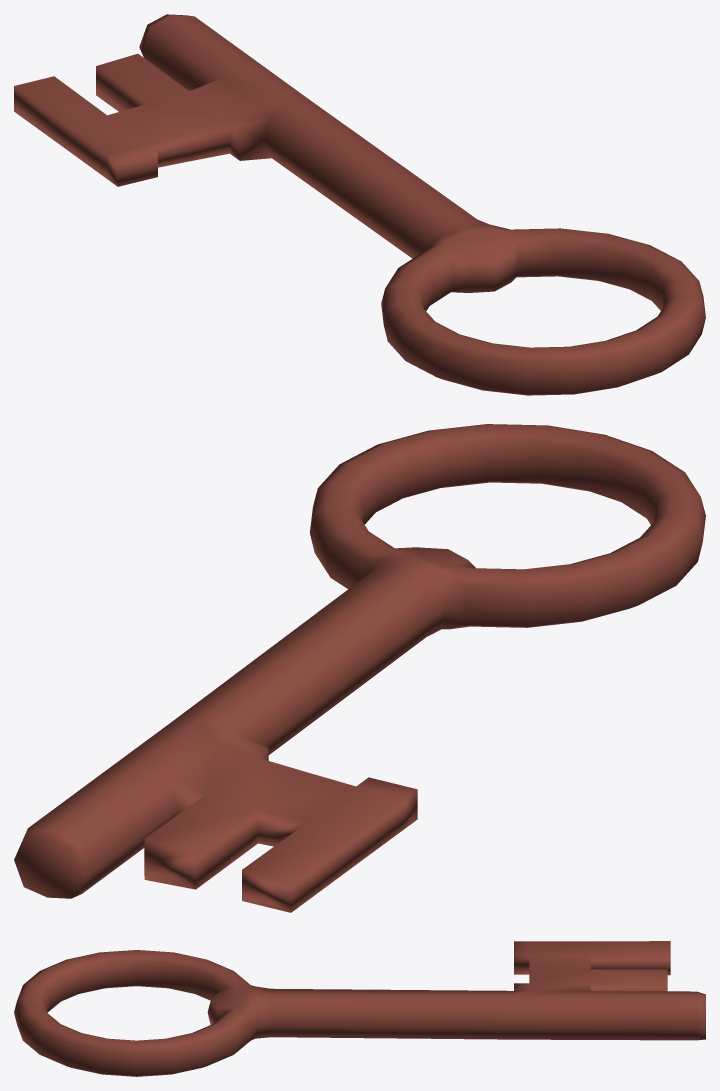
The model's file is Key_02.fbx.
3 views of the same model, one above another, from view 1: azimuth 30°, elevation 25°; view 2: azimuth 150°, elevation 25°; view 3: azimuth 270°, elevation 25° (orthographic). The views are drawn at different scales.
Parts seen in each view (by area): view 1: Key_02; view 2: Key_02; view 3: Key_02.
Boxes of the visible parts, x1=… form: Key_02: x1=14, y1=14, x2=705, y2=395; Key_02: x1=14, y1=424, x2=705, y2=912; Key_02: x1=14, y1=941, x2=705, y2=1076.
Size of the model in its own units: 4.89 by 0.8341 by 12.24.
